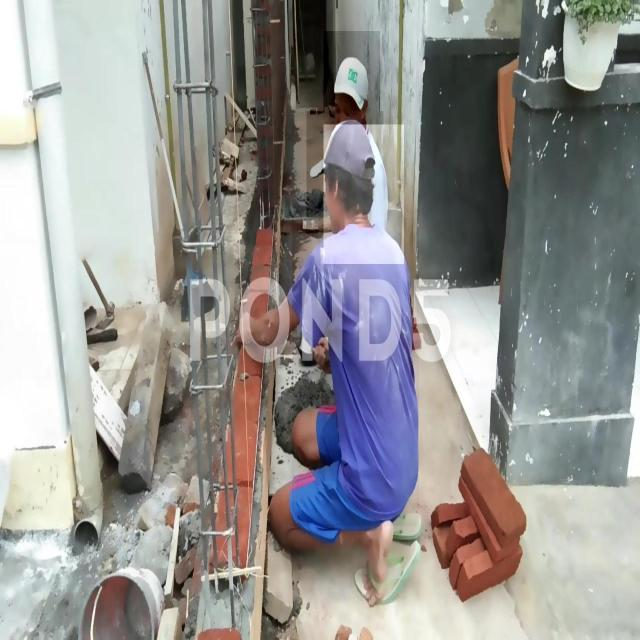Helmet: (292, 218, 419, 526), (324, 124, 404, 264), (306, 111, 384, 227), (324, 31, 380, 149)
